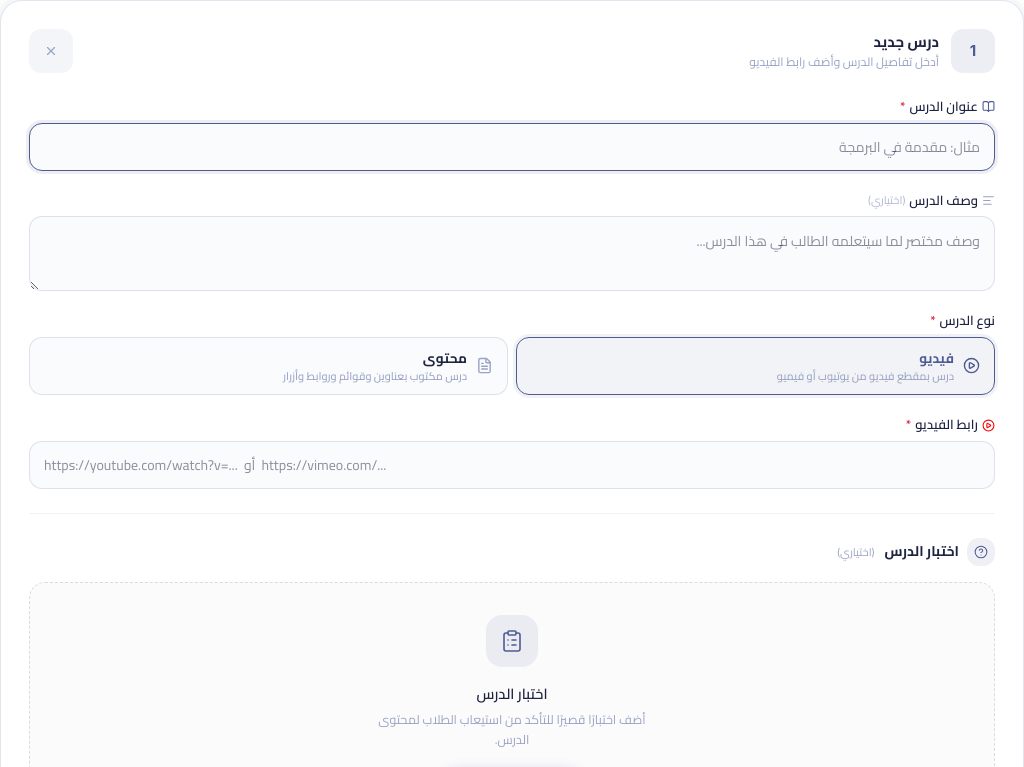
LessonForm video input › accepts a Vimeo link and previews it as Vimeo
Type "https://vimeo.com/76979871" into the field with placeholder "https://youtube.com/watch?v=... أو https://vimeo.com/..." at (512, 465), box [29, 441, 995, 489]
(page scrolled)
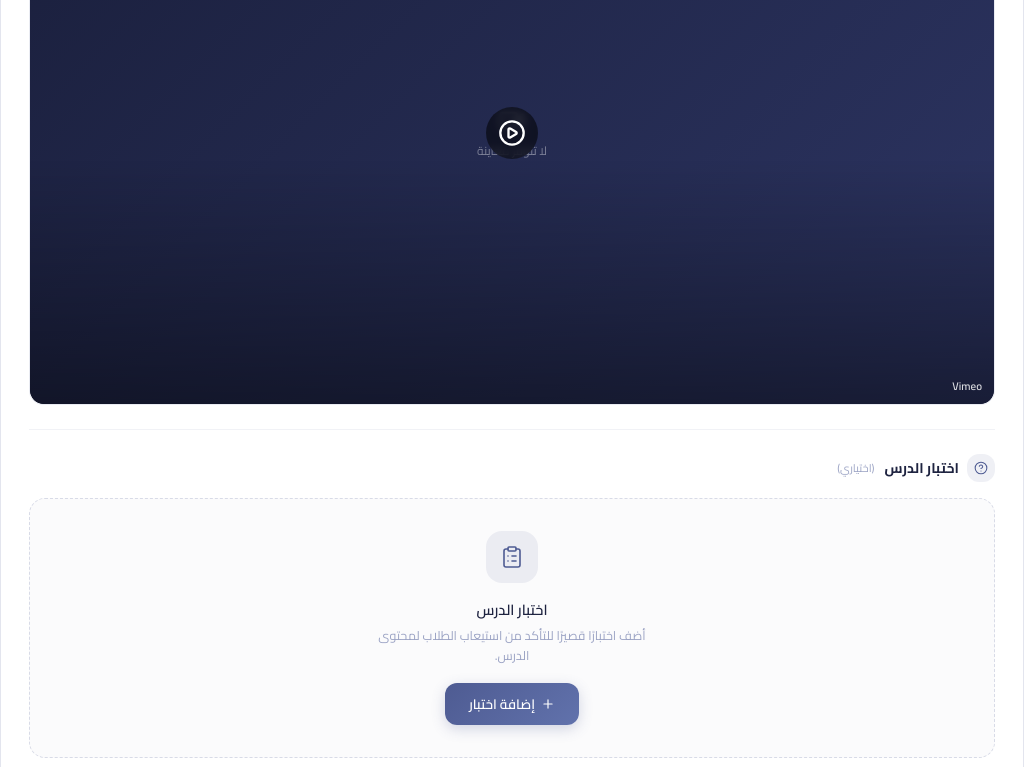
Check: the text "Vimeo" is shown, box [952, 378, 982, 394]
